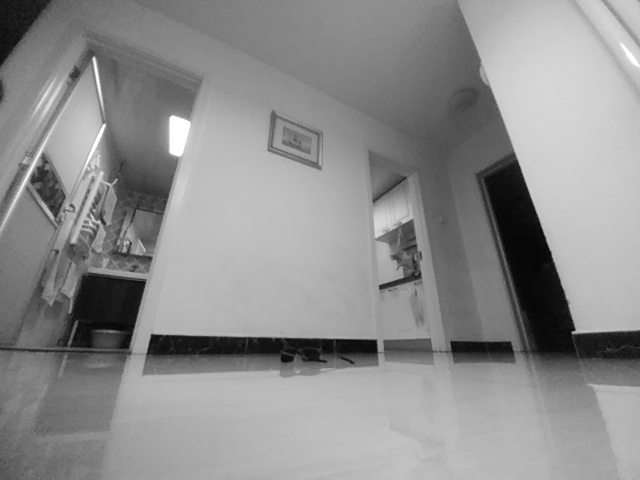others: (279, 343, 355, 366)
